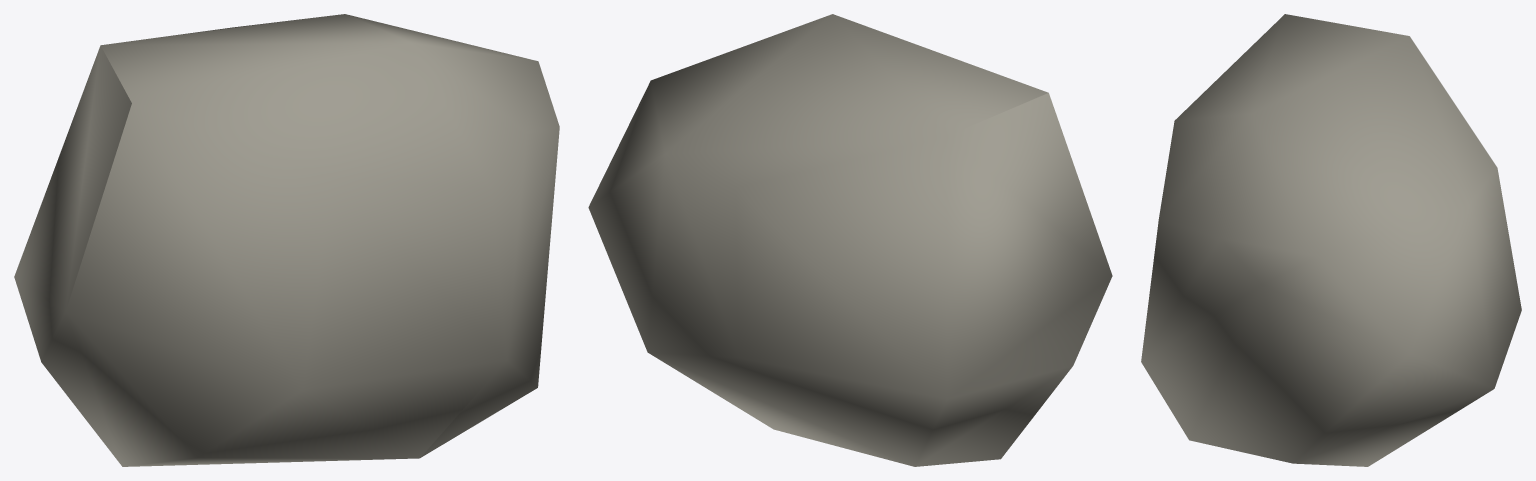
The model's file is Environment_Rock_3.low.gltf.
The picture shows the model from 3 angles, left to right: view 1: azimuth 30°, elevation 25°; view 2: azimuth 150°, elevation 25°; view 3: azimuth 270°, elevation 25°; orthographic projection. The views are drawn at different scales.
Parts seen in each view (by area): view 1: Environment_Rock_3; view 2: Environment_Rock_3; view 3: Environment_Rock_3.
Boxes of the visible parts, x1=… form: Environment_Rock_3: x1=14, y1=14, x2=559, y2=466; Environment_Rock_3: x1=588, y1=14, x2=1112, y2=466; Environment_Rock_3: x1=1141, y1=14, x2=1521, y2=466.
Bounding box in the file's own units: 0.7659 × 0.5945 × 0.5796.
Materials: 1 (1 with a texture image).
